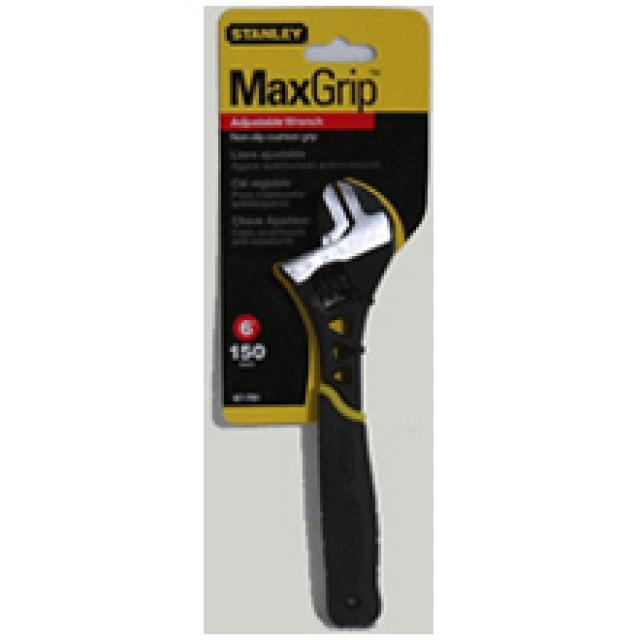wrench: (262, 173, 400, 632)
